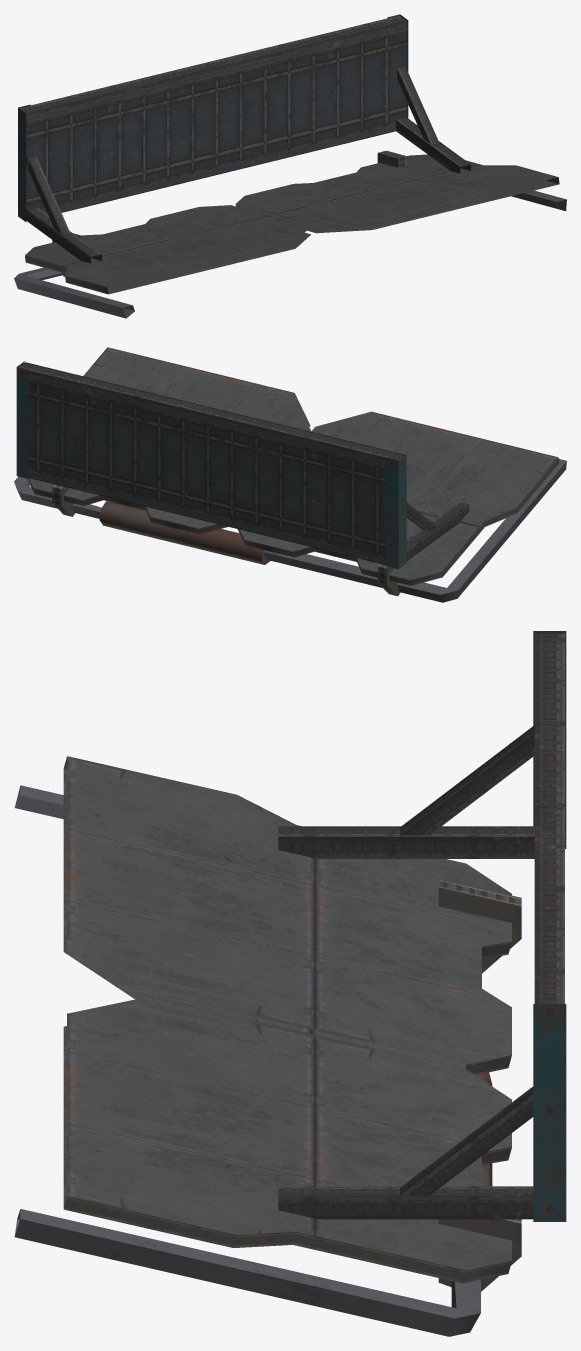
The model's file is ARC0910065.fbx.
3 renders of one model, top to bottom at view 1: azimuth 30°, elevation 25°; view 2: azimuth 150°, elevation 25°; view 3: azimuth 270°, elevation 25°, orthographic. The views are drawn at different scales.
Visible parts, largest first — view 1: smARC0910065; view 2: smARC0910065; view 3: smARC0910065.
Part boxes in pixels (x1,y1,x2,y2): smARC0910065: (14,14,566,318); smARC0910065: (14,347,566,602); smARC0910065: (14,631,566,1336).
Bounding box in the file's own units: 346 × 117 × 183.
Materials: 1 (1 with a texture image).
